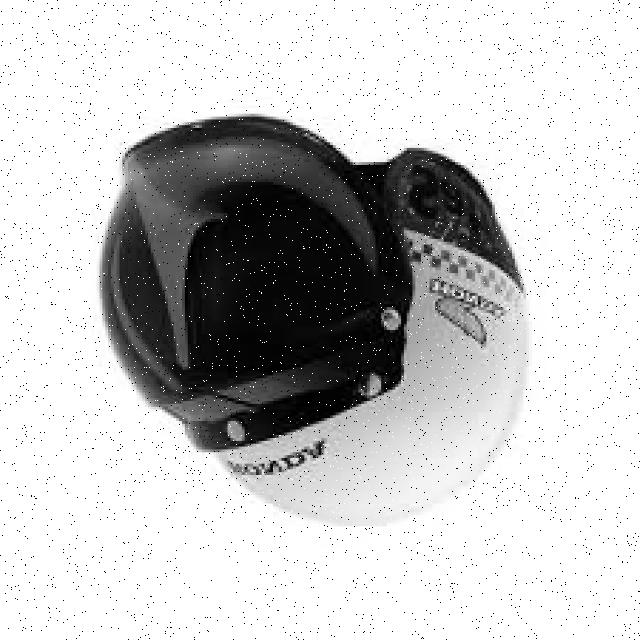Helmet: (99, 100, 528, 526)
